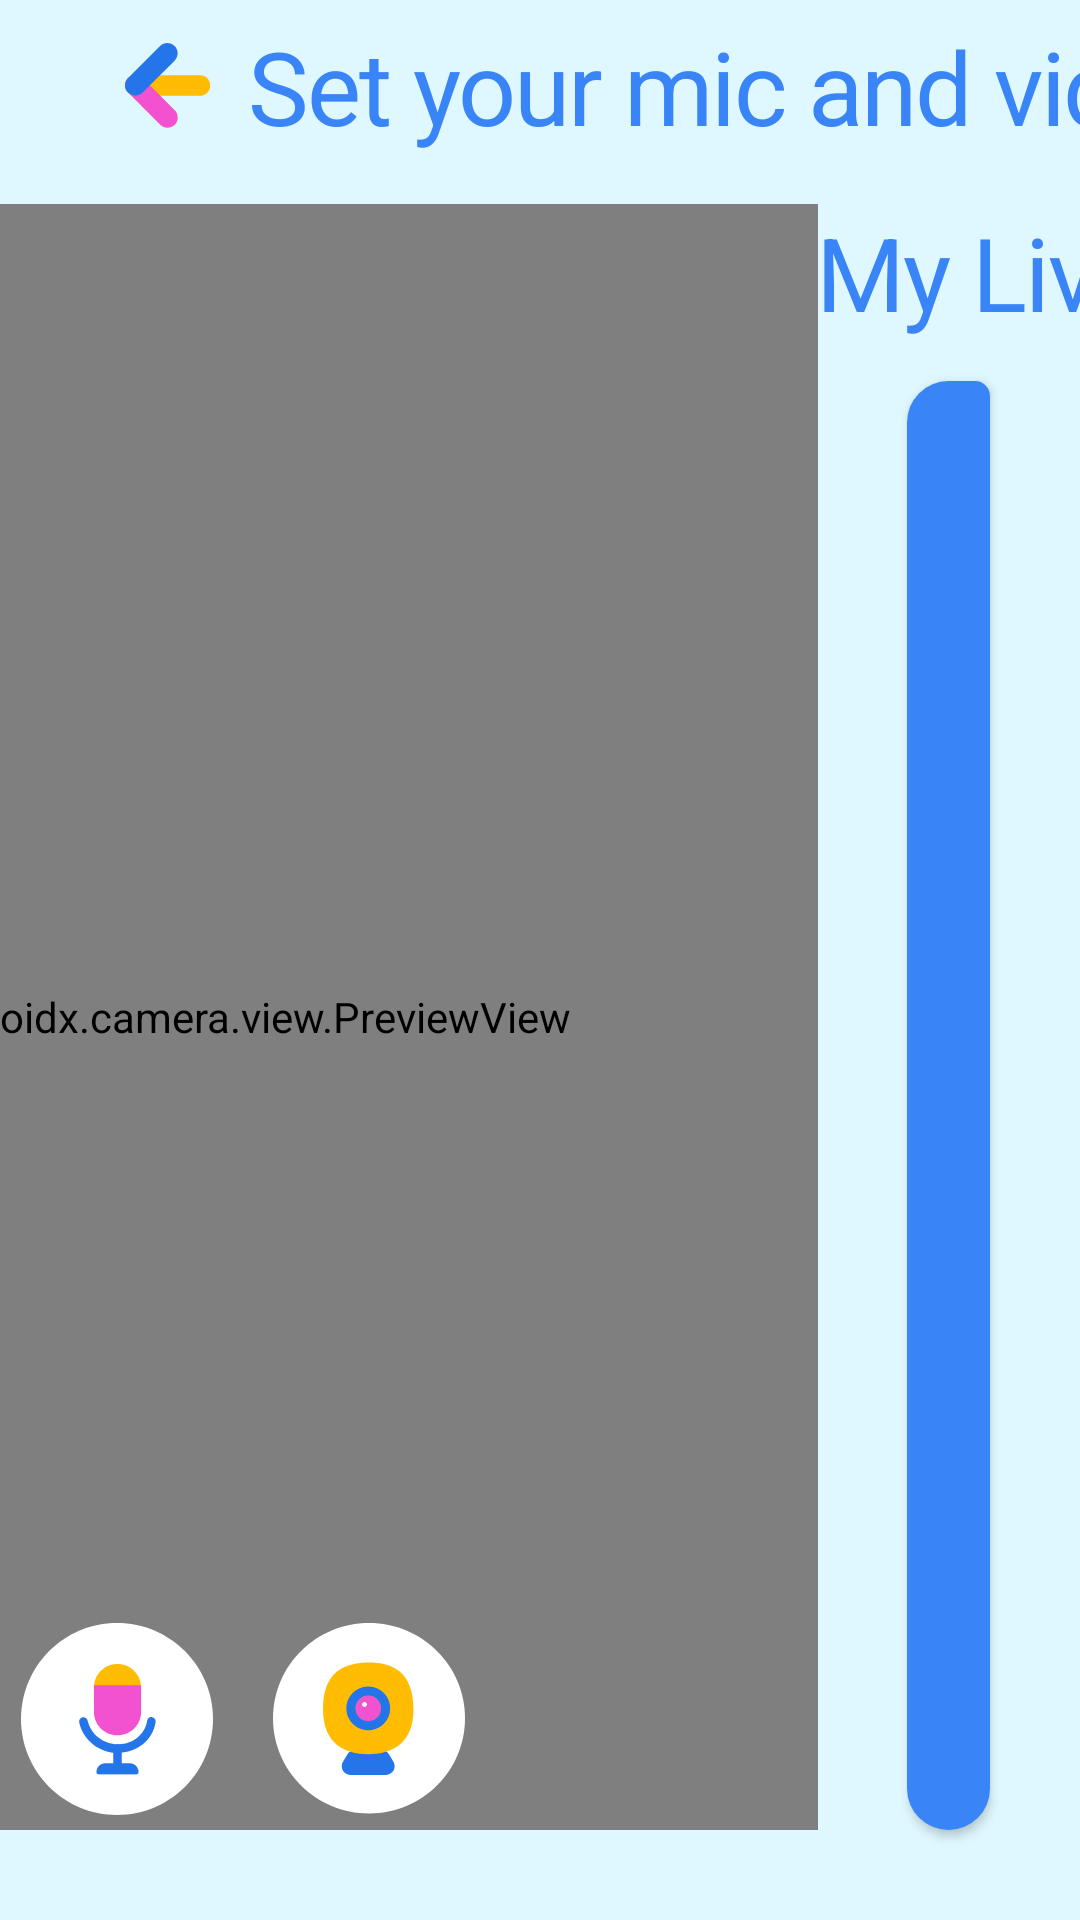

Icons on this 1080w x 1920h Android screen, each with its box as box=[x1, y1, x2, y2]:
back: box=[125, 43, 210, 128]
